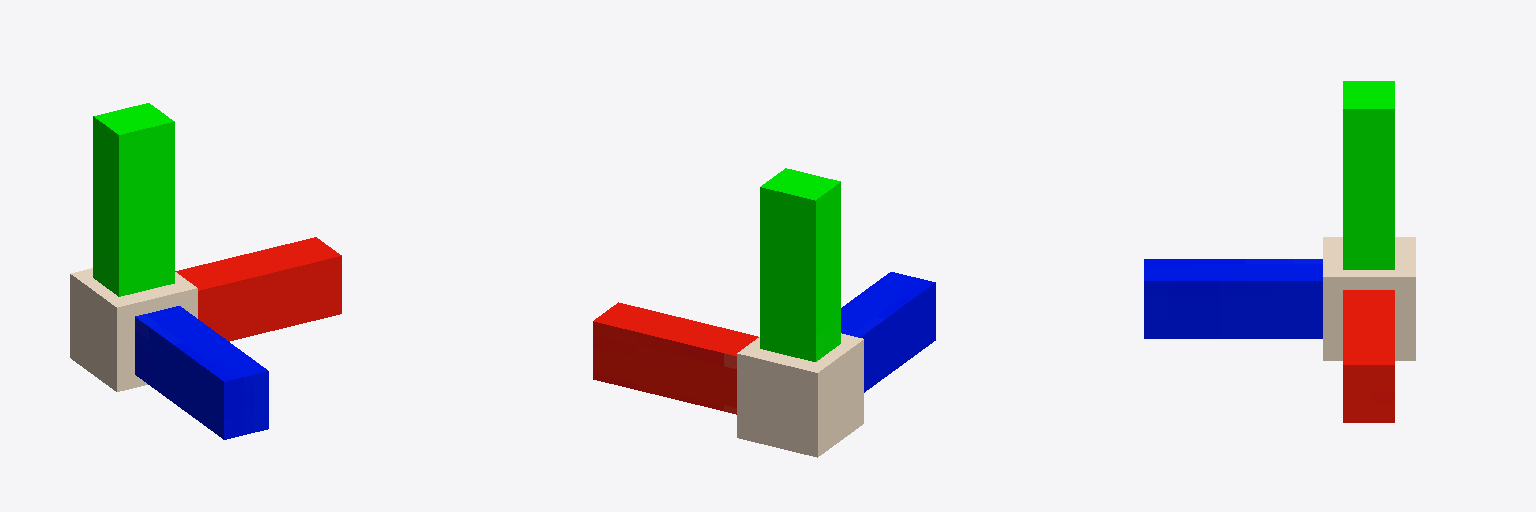
3 views of the same model, side by side, from view 1: azimuth 30°, elevation 25°; view 2: azimuth 150°, elevation 25°; view 3: azimuth 270°, elevation 25° (orthographic).
Visible parts, largest first — view 1: axis; view 2: axis; view 3: axis.
Boxes of the visible parts, <box> form: axis: <box>70,103,341,439</box>; axis: <box>593,168,935,457</box>; axis: <box>1144,81,1415,422</box>.
Size of the model in its own units: 2.4 by 2.4 by 2.4.
1 materials, 1 textured.